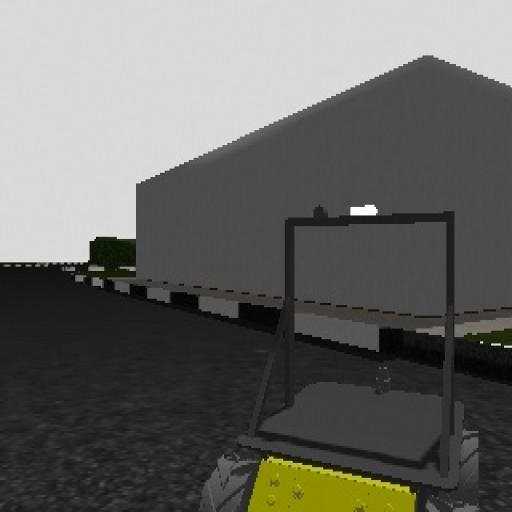huskya200: (198, 198, 498, 512)
